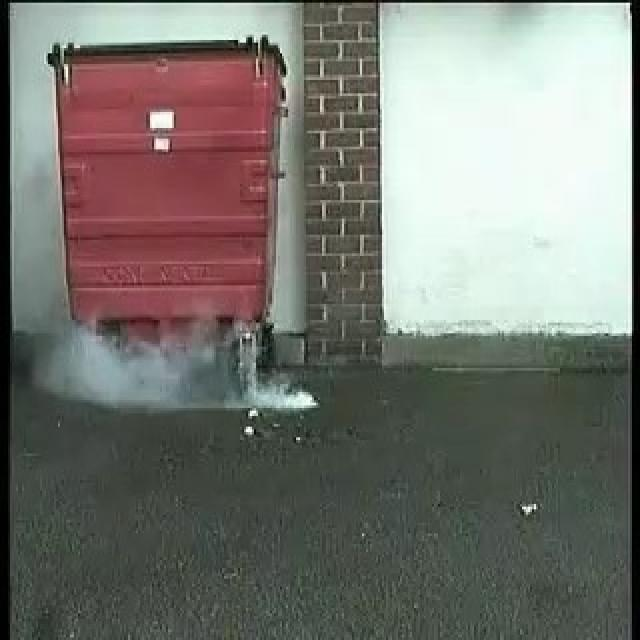smoke: (43, 332, 323, 410)
